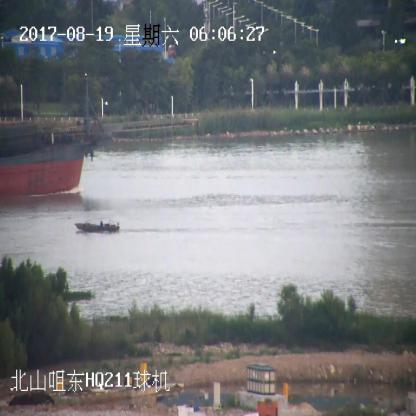Fishing Boat: (74, 219, 120, 233)
